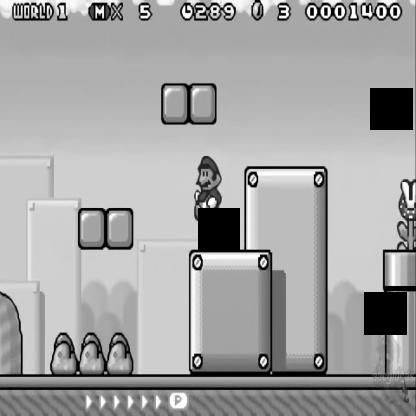Mario: (192, 153, 224, 223)
moneda: (250, 0, 264, 22)
planta carnivora: (394, 177, 416, 255)
